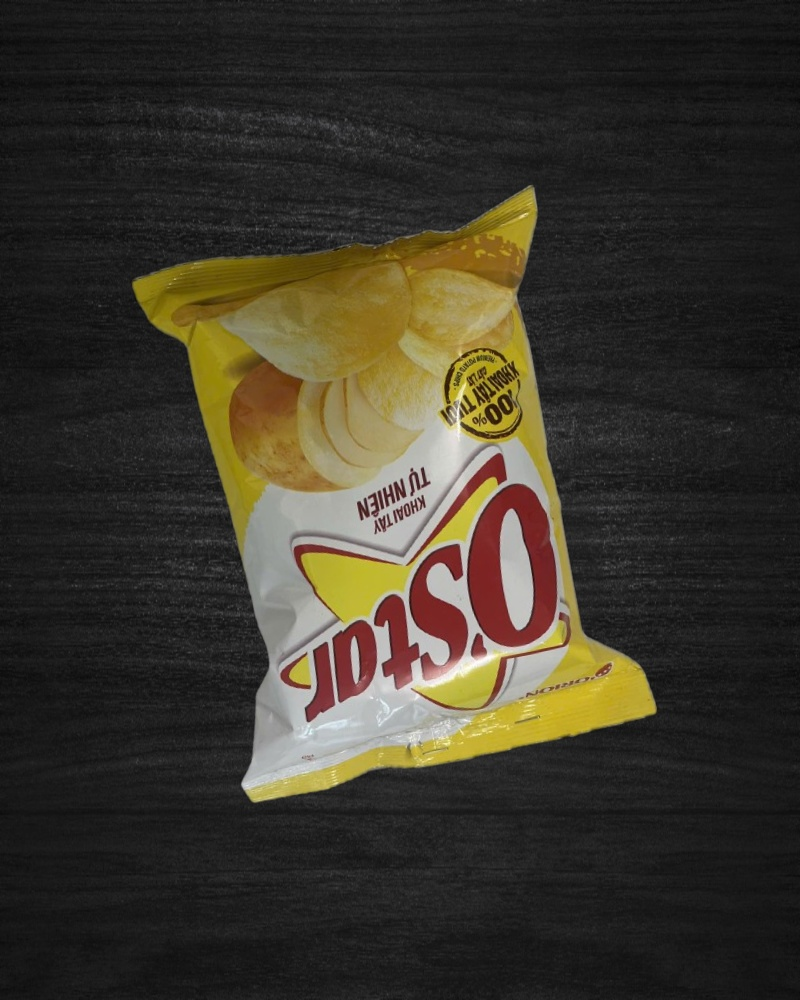Snack cua: (134, 186, 658, 801)
